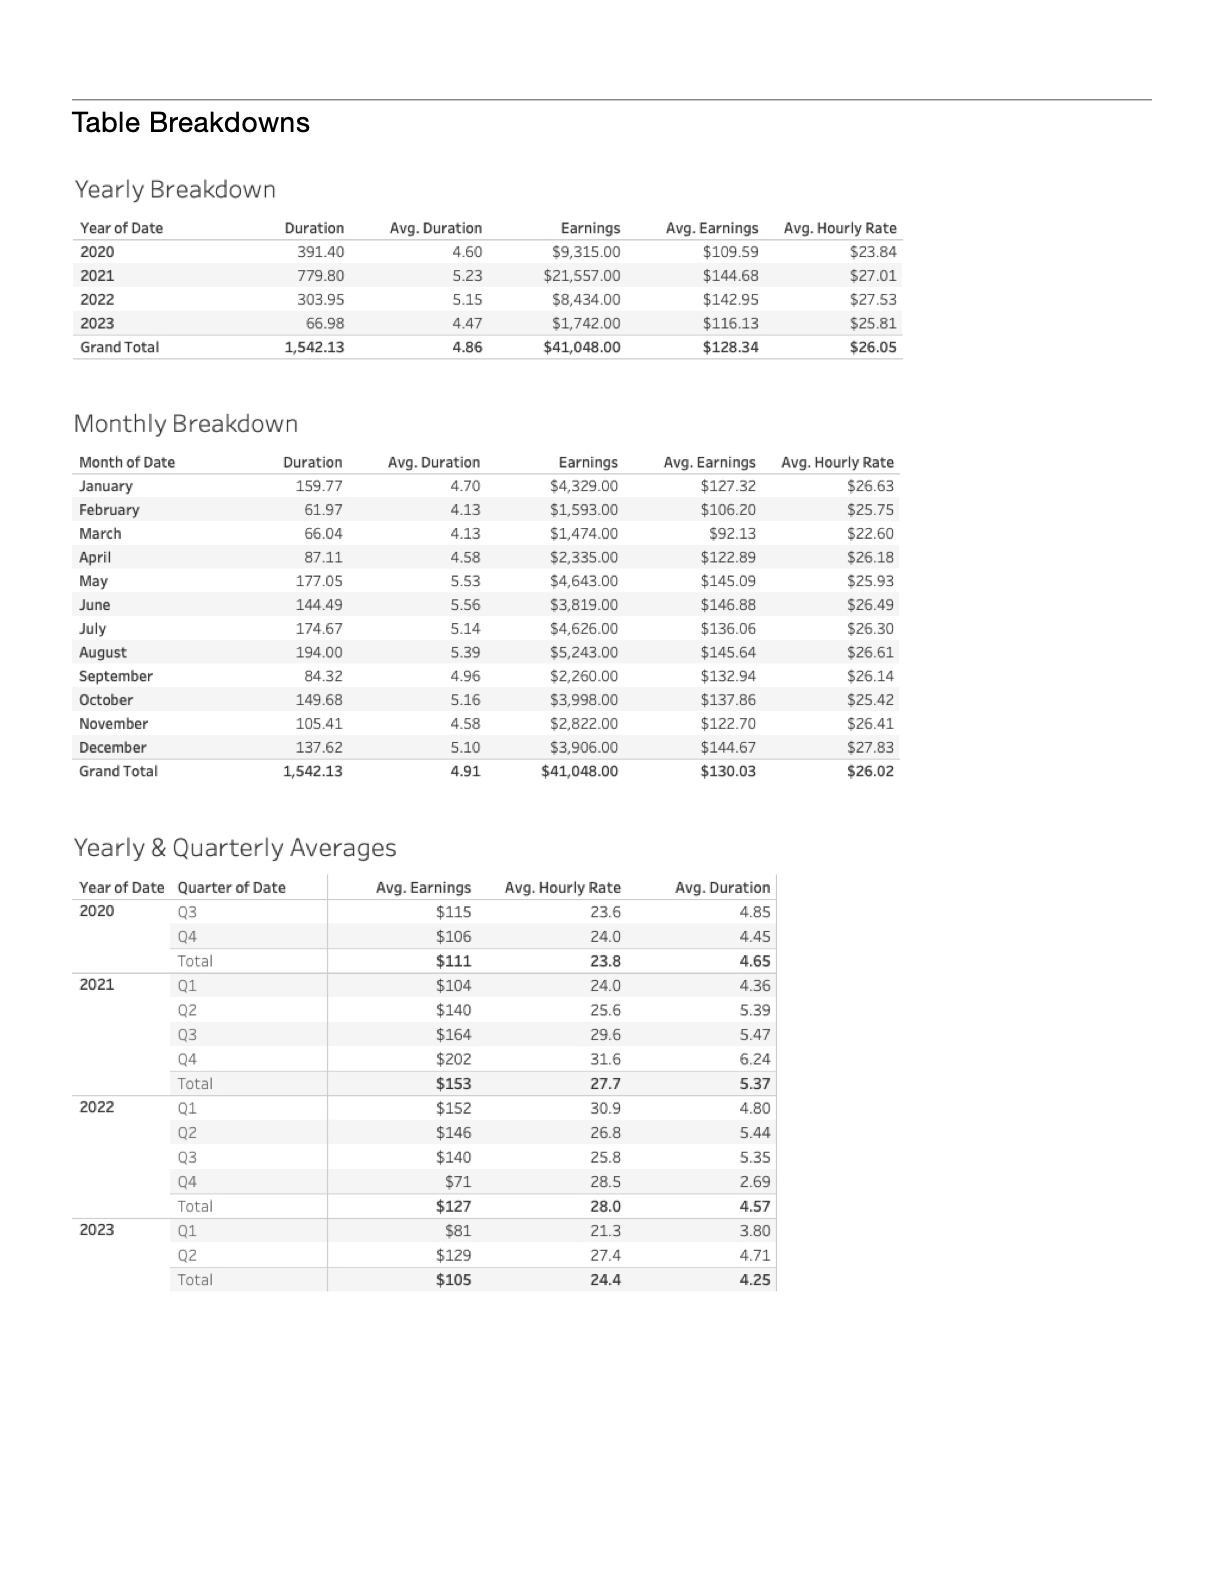

Layout of this report page (visuals, bound fields, positions):
{"tool":"tableau","page":{"name":"Dashboard 11","canvas":[1000,800],"ordinal":2},"visuals":[{"type":"worksheet","title":"-Yearly Breakdown","mark":"Automatic","rows":["Date"],"box":[8,8,984,258]},{"type":"worksheet","title":"-Monthly Breakdown","mark":"Automatic","rows":["Date"],"box":[8,266,984,526]}]}

Visuals, with their boxes on the page's 1000x800 design canvas (x1, y1, x2, y2). These are canvas units, not pixel positions in the 1224x1584 screenshot, which may show the page scaled, cropped or inside an application window:
"-Yearly Breakdown" worksheet: bbox(8, 8, 992, 266)
"-Monthly Breakdown" worksheet: bbox(8, 266, 992, 792)
